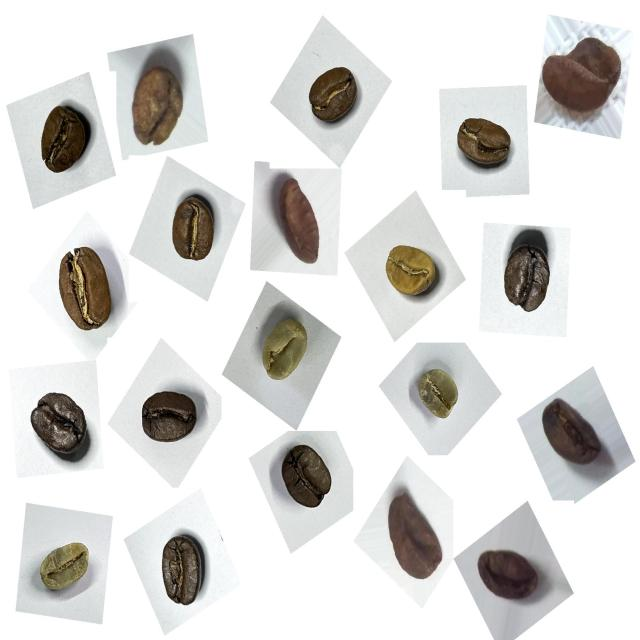bad: (534, 26, 629, 134), (119, 49, 195, 155), (378, 486, 452, 594), (266, 168, 334, 274), (534, 390, 612, 480), (471, 532, 549, 617)
dark: (22, 381, 98, 471), (145, 521, 216, 616), (494, 237, 566, 328), (271, 435, 343, 523), (132, 380, 204, 459)
green: (250, 307, 319, 398), (30, 530, 100, 606), (408, 359, 468, 432)
light: (376, 232, 446, 311)
medium: (43, 236, 124, 344), (27, 96, 98, 187), (158, 189, 226, 273), (449, 106, 521, 183), (299, 59, 366, 138)
